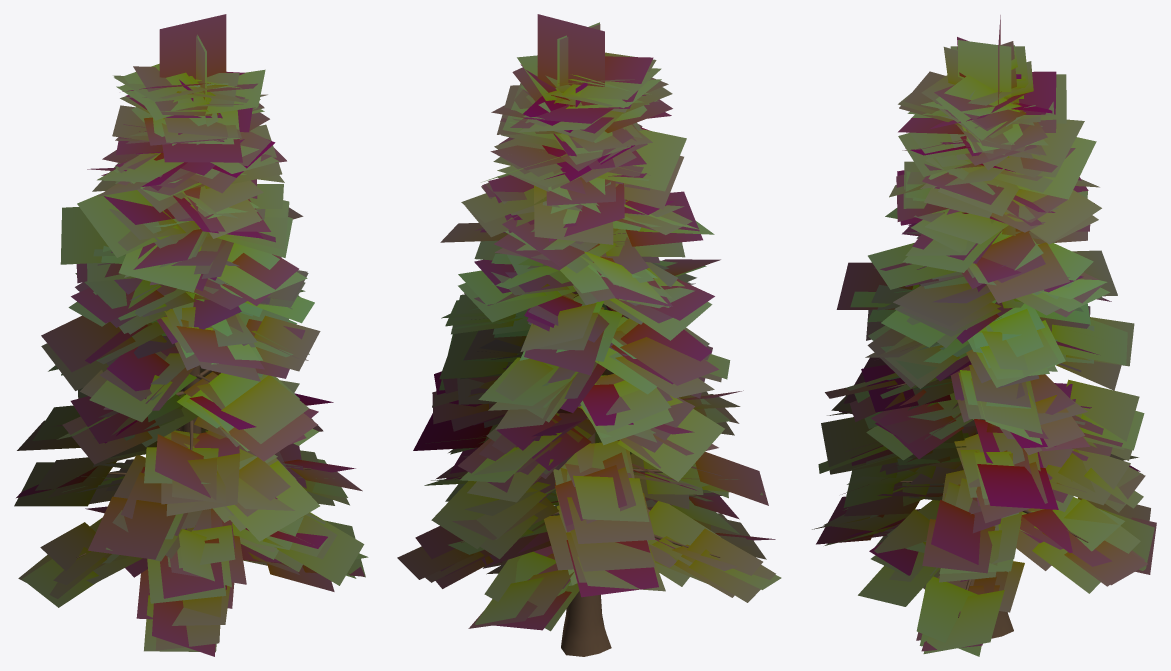
File: tree_pine_2.glb
3 views of the same model, side by side, from view 1: azimuth 30°, elevation 25°; view 2: azimuth 150°, elevation 25°; view 3: azimuth 270°, elevation 25° (orthographic). The views are drawn at different scales.
Visible parts, largest first — view 1: Leaves, Trunk; view 2: Leaves, Trunk; view 3: Leaves, Trunk.
Boxes of the visible parts, x1,y1,x2,y2 form: Leaves: (14,14,368,656); Trunk: (76,291,311,558); Leaves: (397,14,781,631); Trunk: (461,292,720,656); Leaves: (812,15,1156,656); Trunk: (887,383,1088,638).
Bounding box in the file's own units: 5.59 × 9.71 × 5.07.
